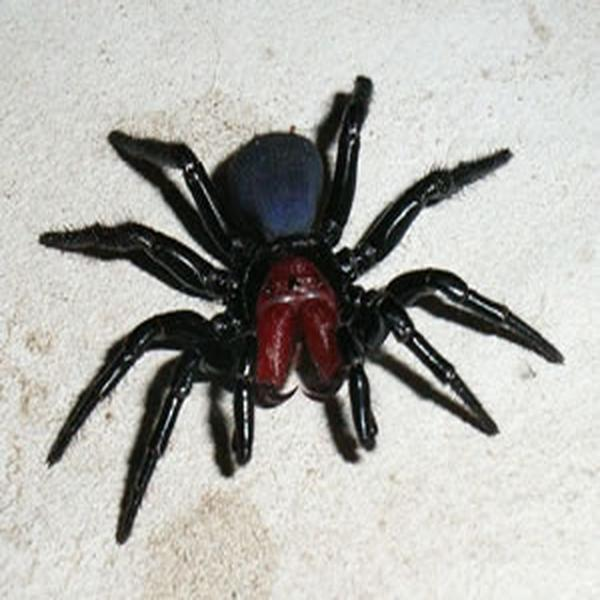Red Headed Mouse Spider: (55, 87, 549, 518)
